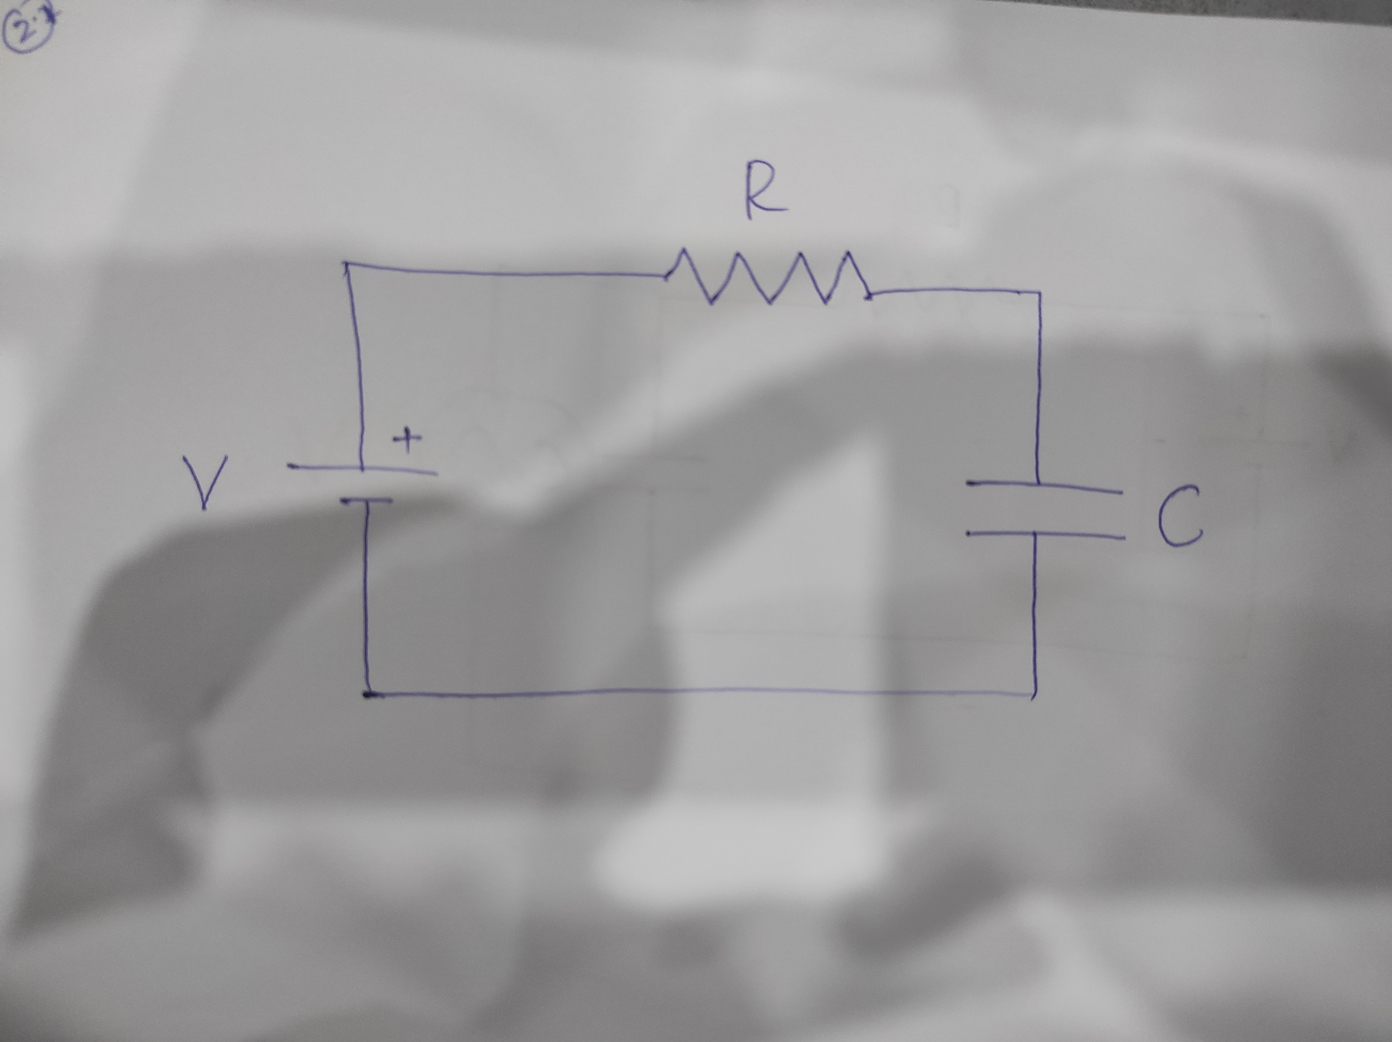capacitor.unpolarized: (958, 473, 1132, 547)
junction: (352, 676, 385, 708), (1023, 281, 1052, 310), (1020, 682, 1045, 707), (337, 253, 359, 274)
resistor: (657, 241, 880, 312)
text: (740, 155, 792, 227), (1155, 482, 1208, 549), (179, 449, 230, 514)
voltage.dc: (279, 422, 443, 511)
